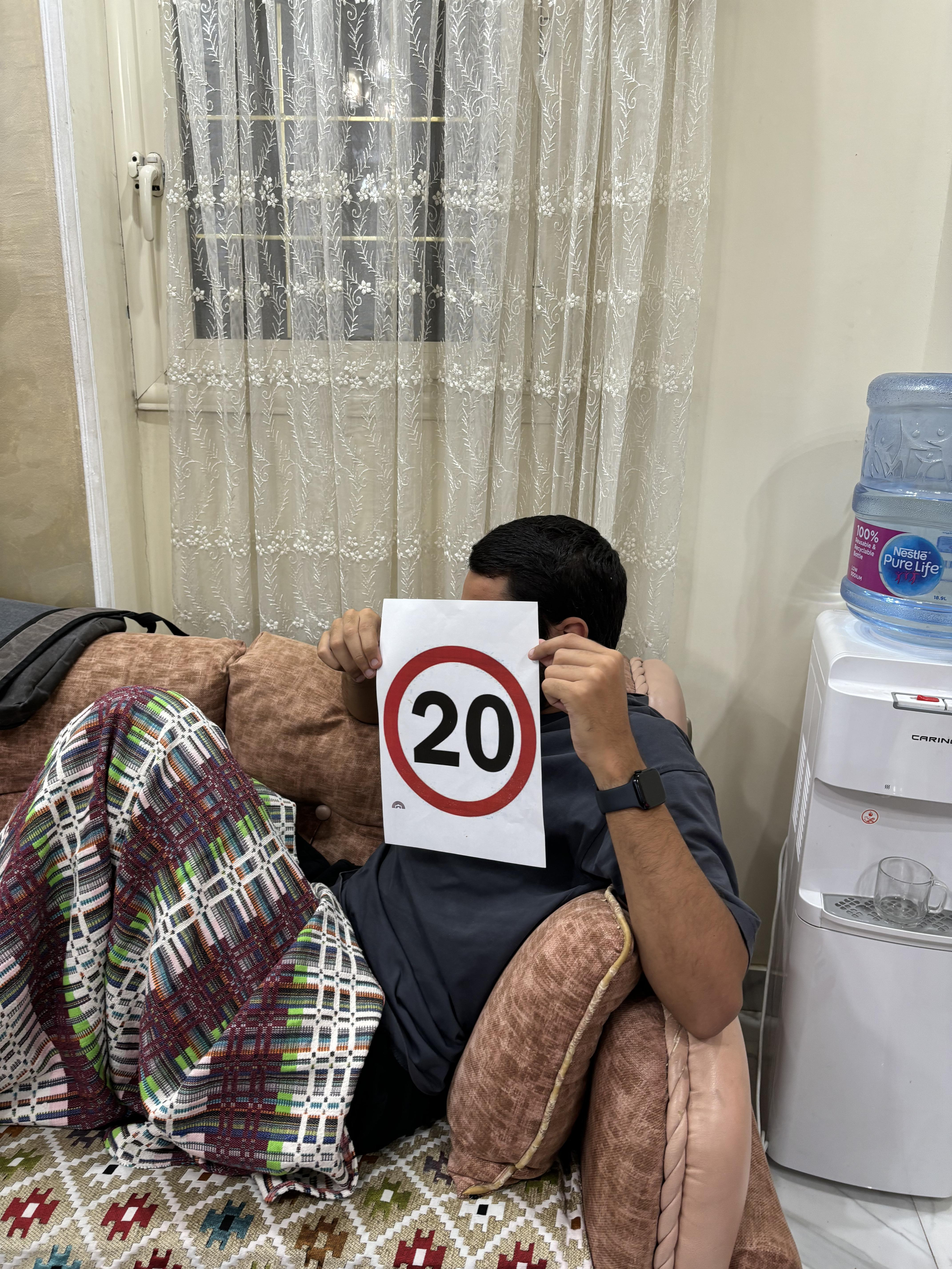20-Speed: (385, 642, 543, 821)
